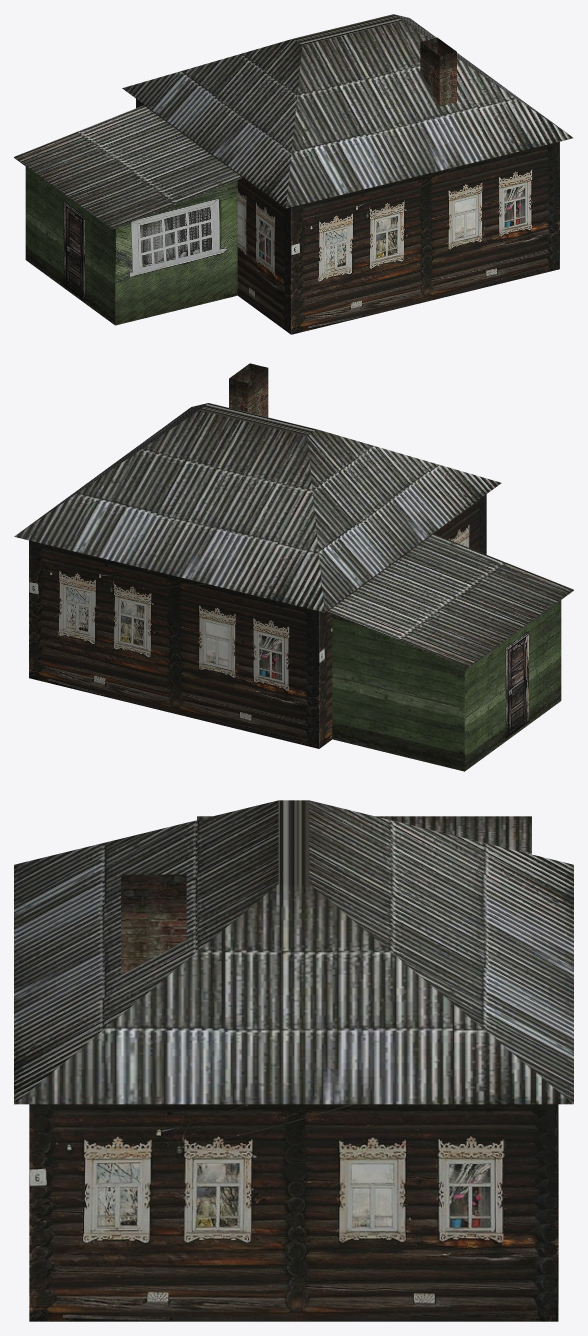
The model's file is d_dom_1et_33.FBX.
3 renders of one model, top to bottom at view 1: azimuth 30°, elevation 25°; view 2: azimuth 150°, elevation 25°; view 3: azimuth 270°, elevation 25°, orthographic. The views are drawn at different scales.
Visible parts, largest first — view 1: d_dom_1et_33; view 2: d_dom_1et_33; view 3: d_dom_1et_33.
Part boxes in pixels (box(x1,y1,x2,y2)): d_dom_1et_33: box(14, 14, 573, 334); d_dom_1et_33: box(14, 363, 573, 771); d_dom_1et_33: box(14, 800, 573, 1321).
Bounding box in the file's own units: 10.68 × 7.44 × 5.41.
